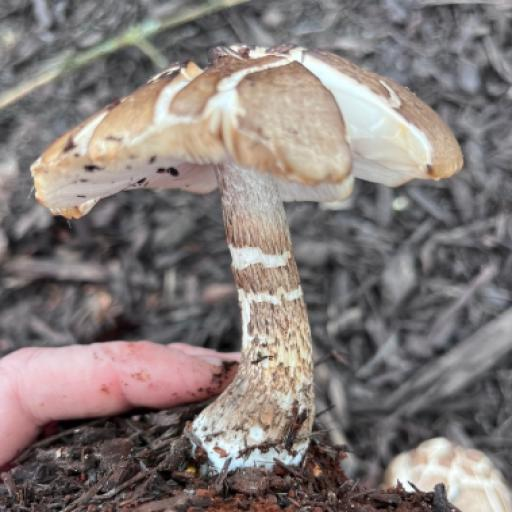Shiitake Mushroom: (0, 0, 479, 492)
